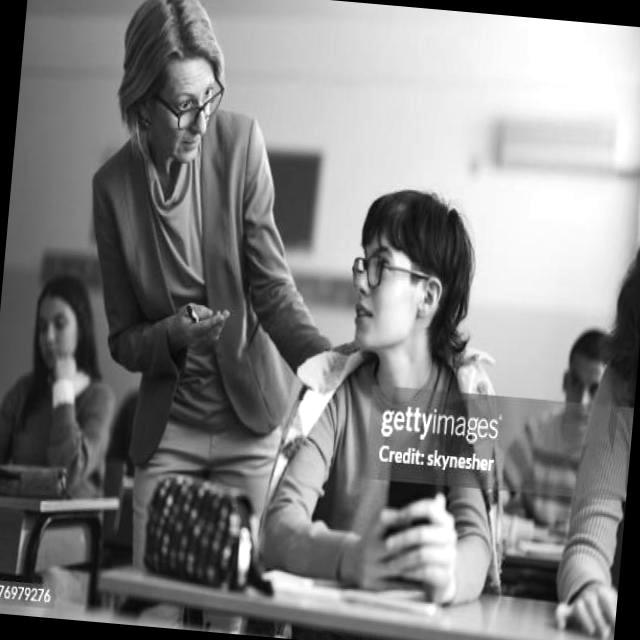phone: (378, 458, 440, 586), (183, 302, 200, 322)
